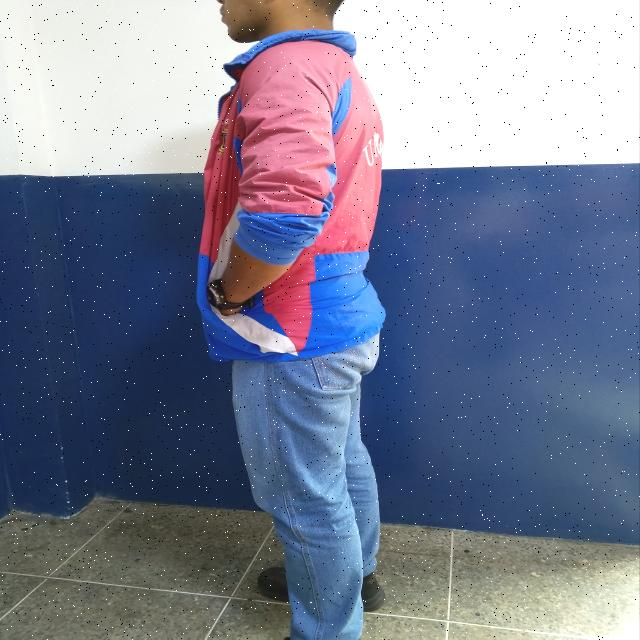chaqueta_unefa: (195, 29, 387, 362)
